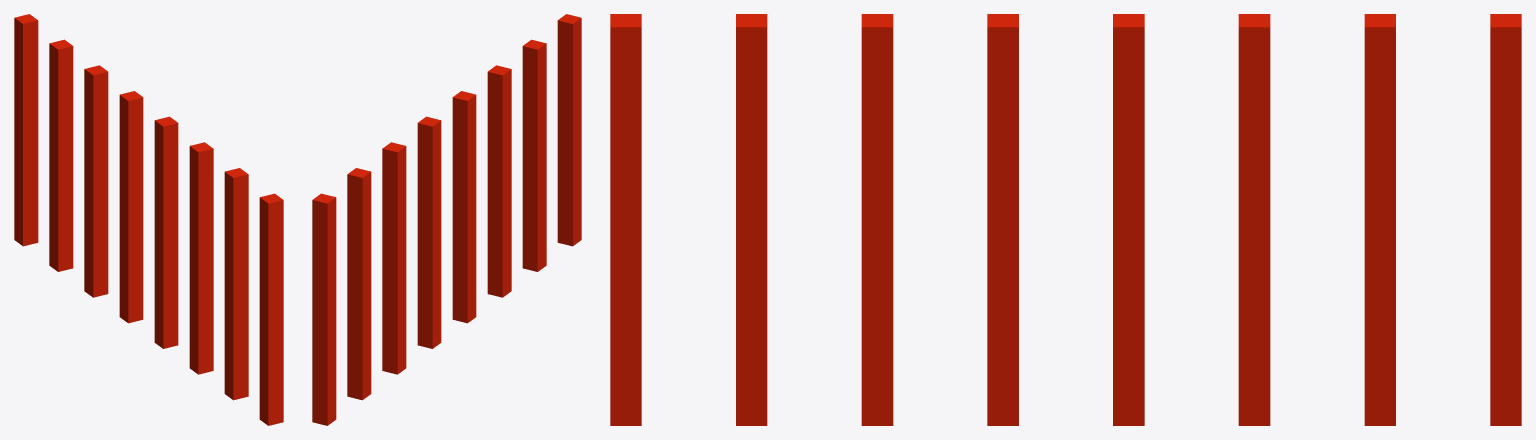
File: SM_jailLasers_01a.fbx
3 renders of one model, left to right at view 1: azimuth 30°, elevation 25°; view 2: azimuth 150°, elevation 25°; view 3: azimuth 270°, elevation 25°, orthographic. The views are drawn at different scales.
Parts seen in each view (by area): view 1: SM_jailLasers_01a; view 2: SM_jailLasers_01a; view 3: SM_jailLasers_01a.
Boxes of the visible parts, x1,y1,x2,y2 form: SM_jailLasers_01a: (14,14,283,425); SM_jailLasers_01a: (312,14,581,425); SM_jailLasers_01a: (610,14,1521,425).
Size of the model in its own units: 1 by 14 by 29.
